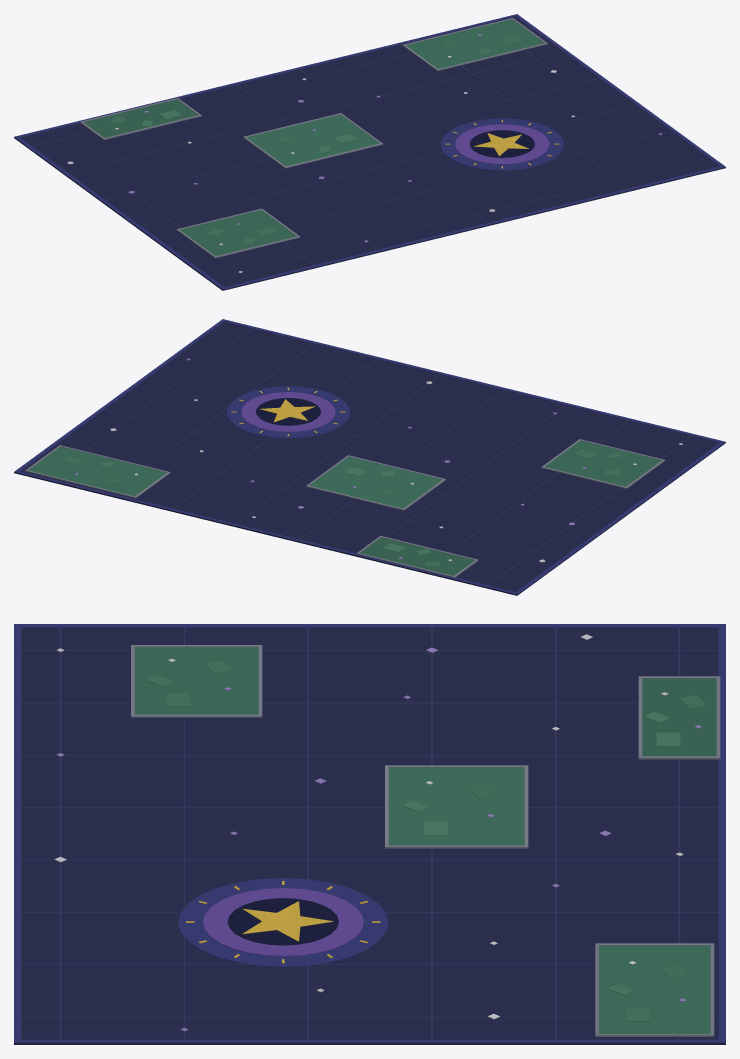
File: Decor_Observatory_Ground.fbx
3 renders of one model, top to bottom at view 1: azimuth 30°, elevation 25°; view 2: azimuth 150°, elevation 25°; view 3: azimuth 270°, elevation 25°, orthographic. The views are drawn at different scales.
Visible parts, largest first — view 1: Ground_Body; view 2: Ground_Body; view 3: Ground_Body.
Part boxes in pixels (x1,y1,x2,y2): Ground_Body: [14, 14, 725, 290]; Ground_Body: [14, 319, 725, 595]; Ground_Body: [14, 624, 725, 1044].
Size of the model in its own units: 160 by 0.58 by 115.
